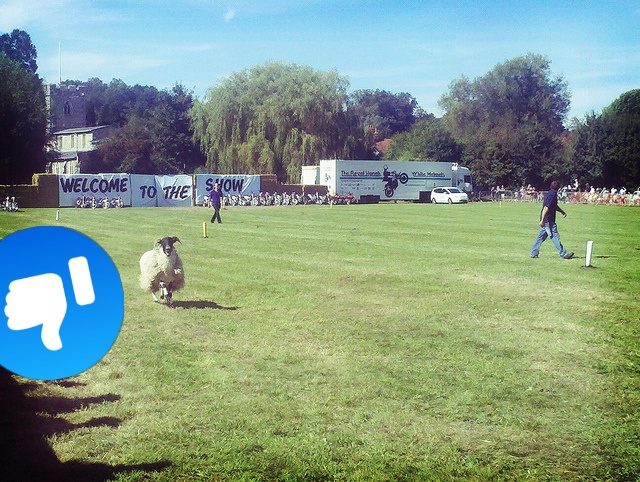like: (0, 226, 124, 380)
